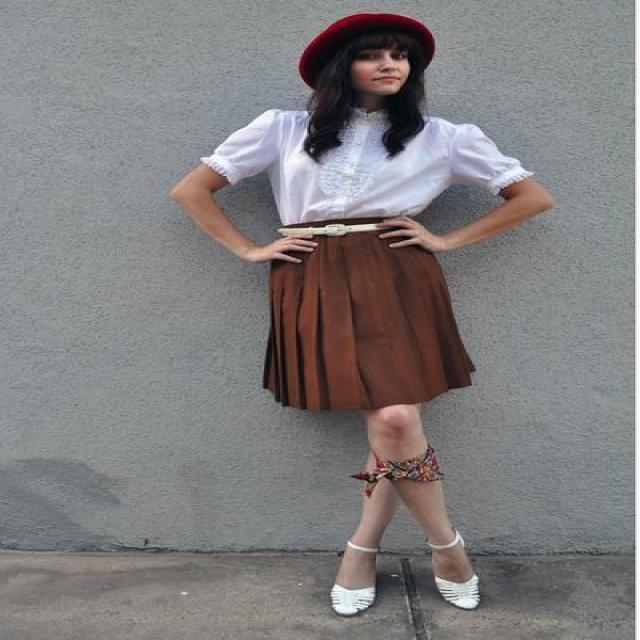hat: (308, 14, 434, 63)
shirt: (200, 108, 531, 235)
skirt: (262, 217, 473, 410)
